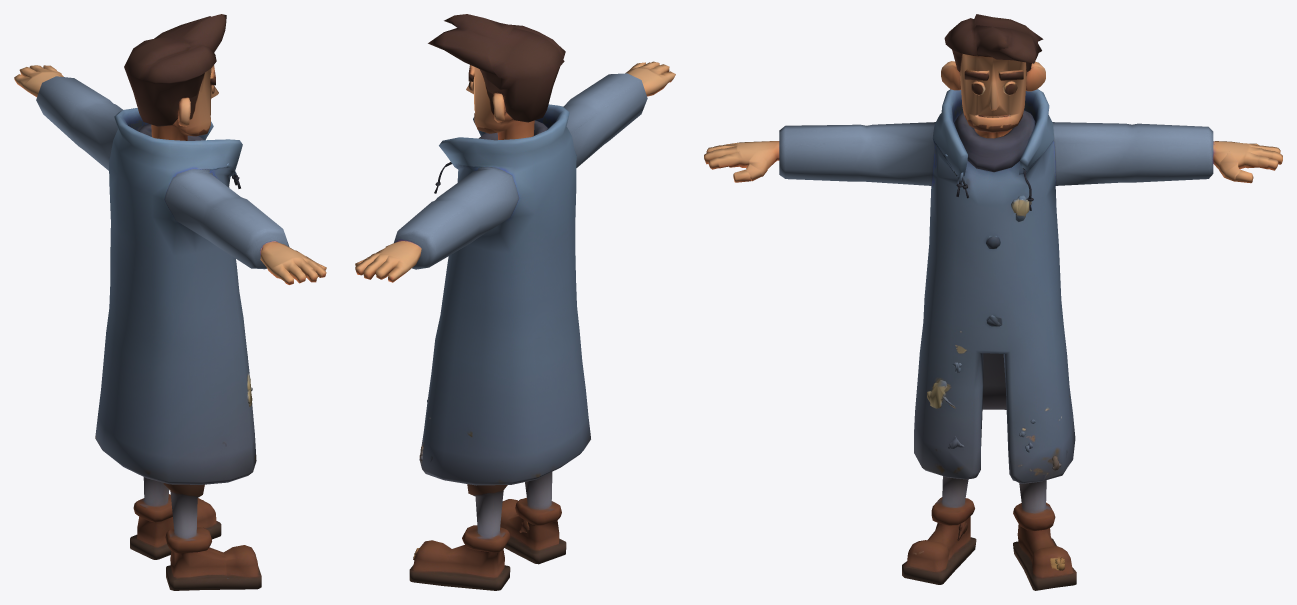
Rendered from model_mangas_corrigidas.glb.
3 views of the same model, side by side, from view 1: azimuth 30°, elevation 25°; view 2: azimuth 150°, elevation 25°; view 3: azimuth 270°, elevation 25° (orthographic).
Parts seen in each view (by area): view 1: tripo_node_867cb05e-5288-4f07-9661-3c01c1319f51; view 2: tripo_node_867cb05e-5288-4f07-9661-3c01c1319f51; view 3: tripo_node_867cb05e-5288-4f07-9661-3c01c1319f51.
Boxes of the visible parts, x1,y1,x2,y2 form: tripo_node_867cb05e-5288-4f07-9661-3c01c1319f51: (14, 14, 326, 590); tripo_node_867cb05e-5288-4f07-9661-3c01c1319f51: (355, 14, 675, 590); tripo_node_867cb05e-5288-4f07-9661-3c01c1319f51: (704, 14, 1282, 590).
Size of the model in its own units: 0.2559 by 0.998 by 0.959.
Materials: 1 (1 with a texture image).
